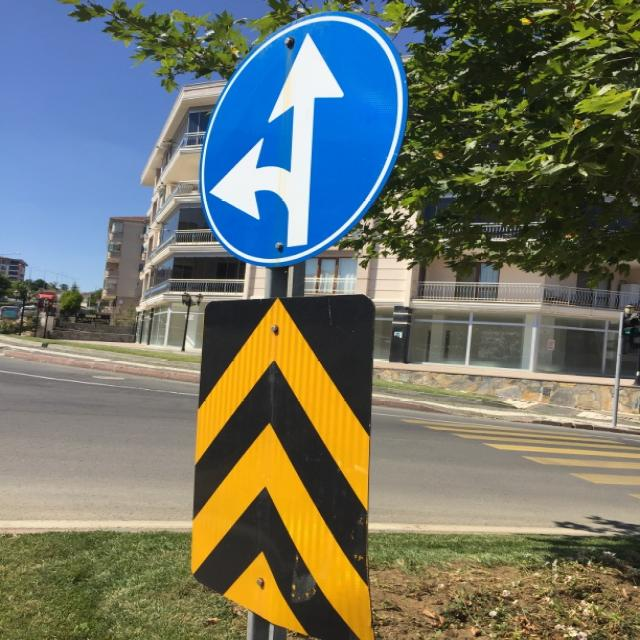ilerisol: (200, 13, 408, 269)
